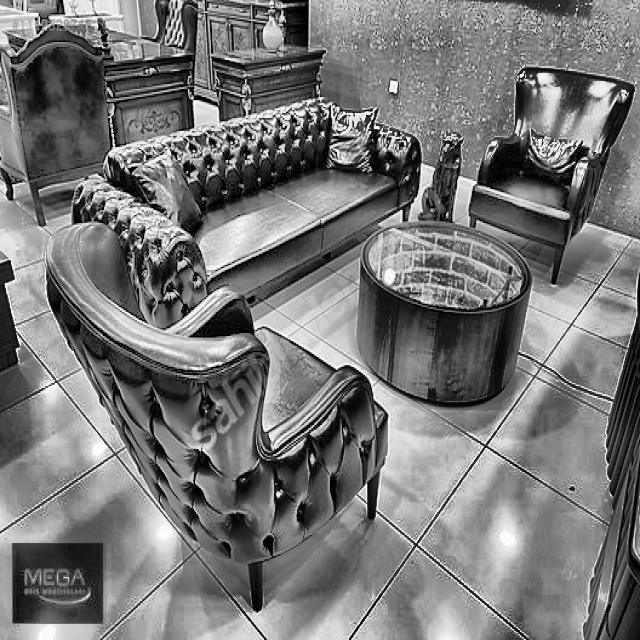sofa: (70, 94, 422, 312)
